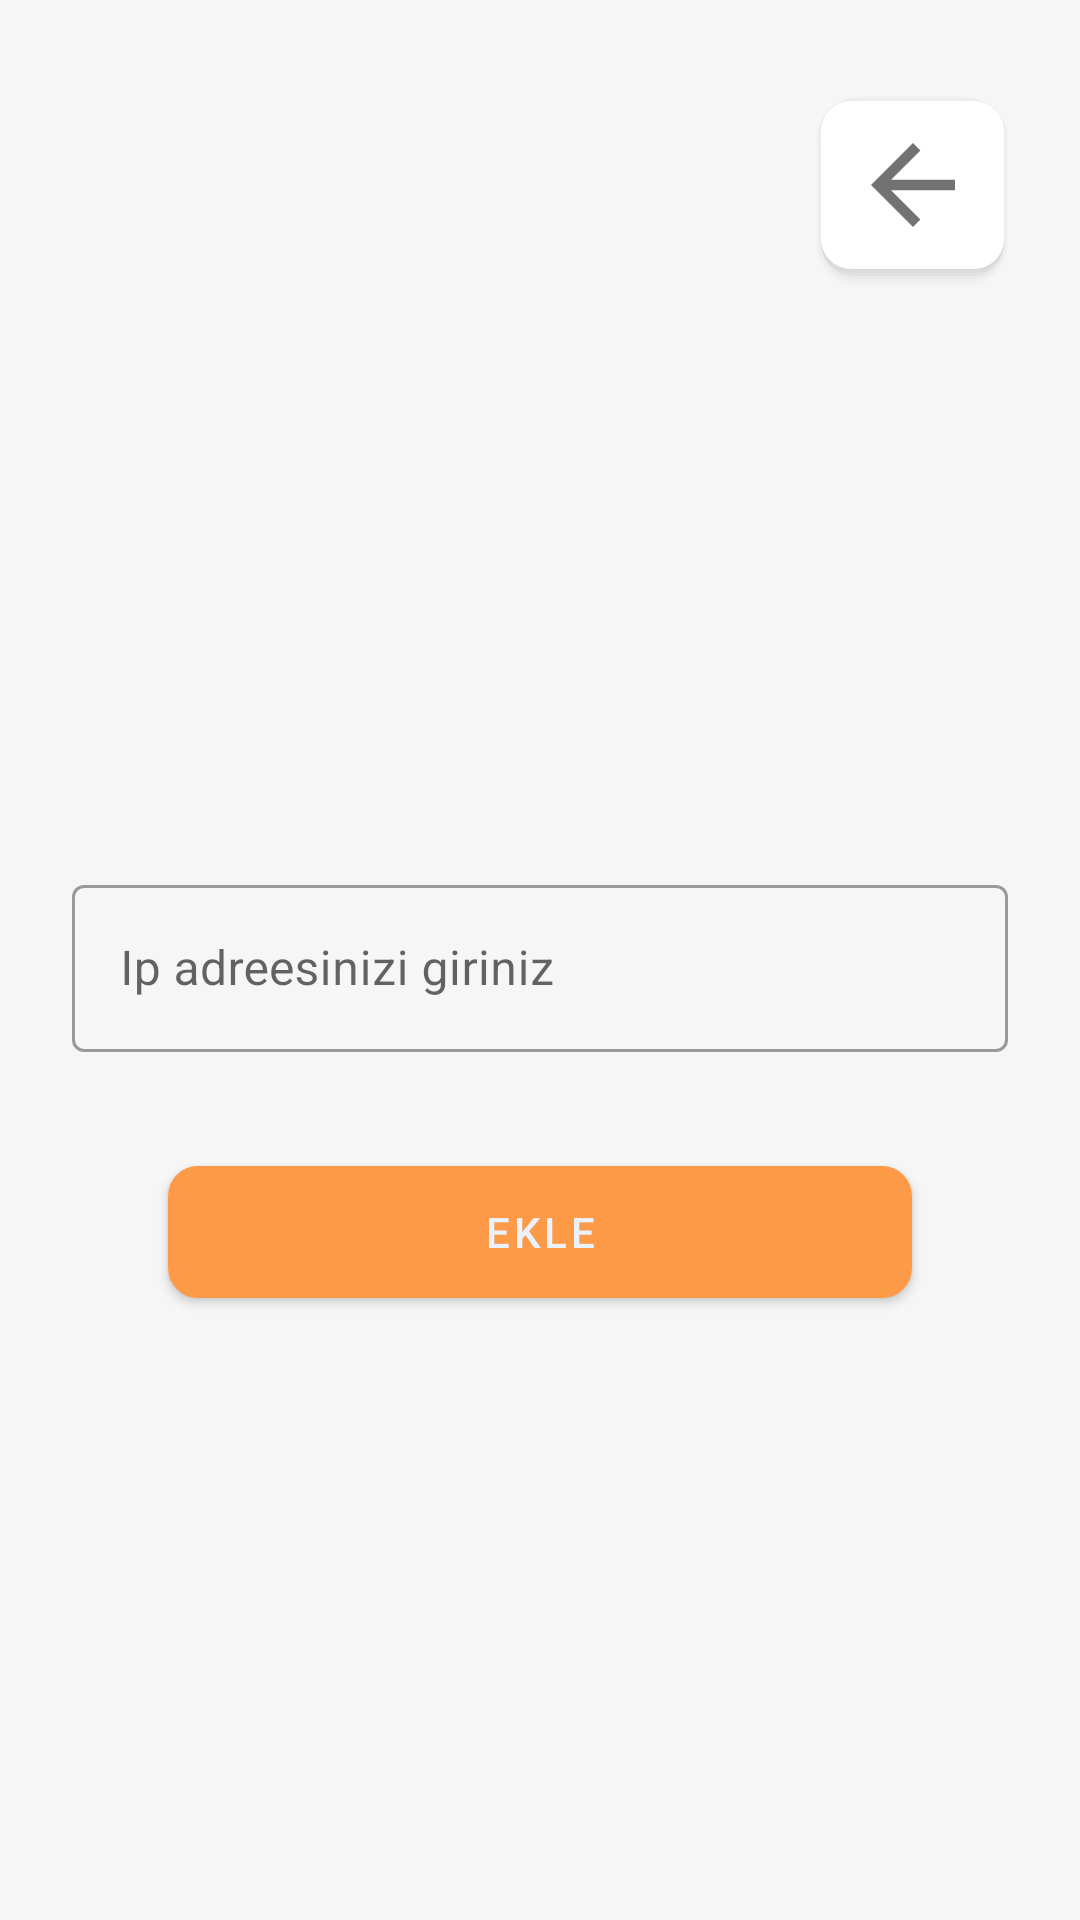

Locate icon controls on the screen. Image size 1080 × 1920, boxes as (x1, y1, x2, y2).
arrow back: (821, 101, 1007, 279)
